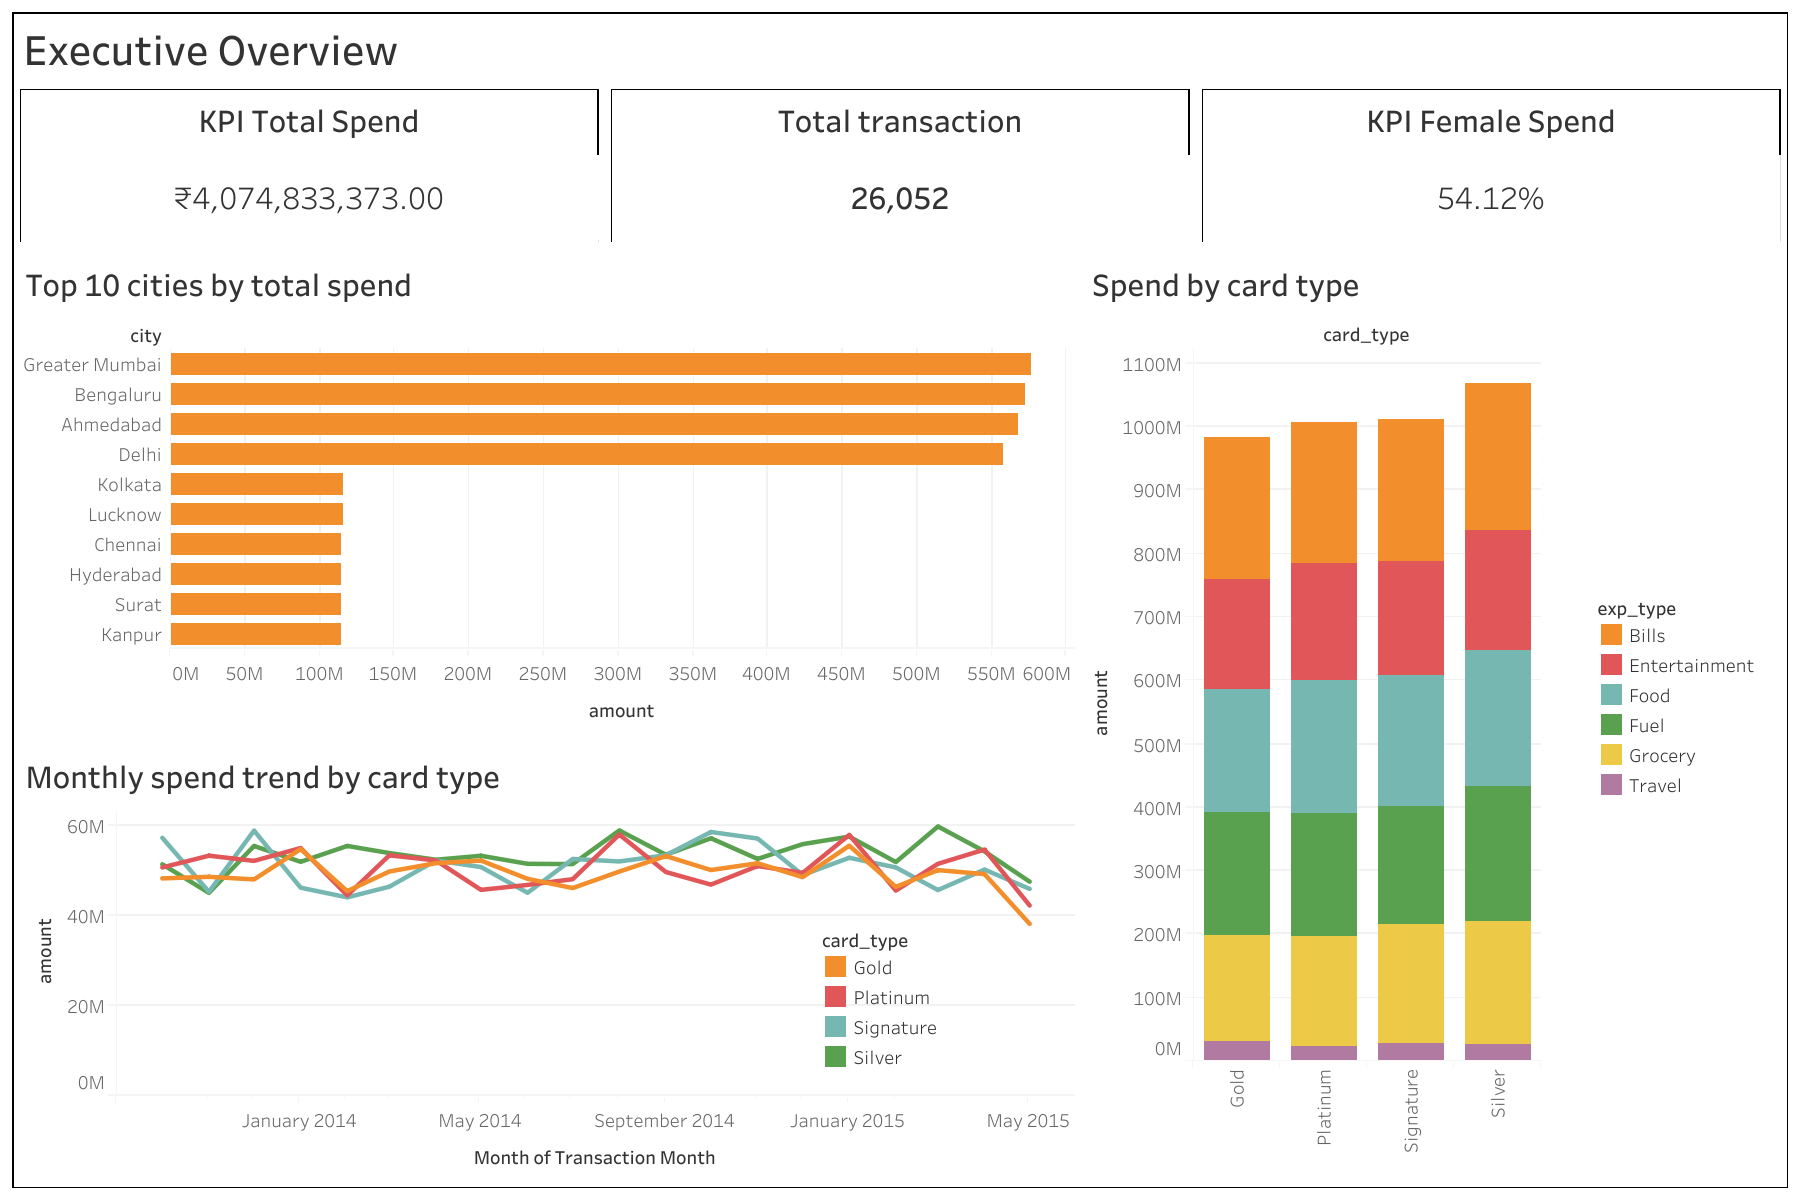

What the dashboard file says about the page in this screenshot:
{"tool":"tableau","page":{"name":"Executive Overview","canvas":[1200,800],"ordinal":3},"visuals":[{"type":"title","box":[9,9,1182,46]},{"type":"worksheet","title":"KPI Total Spend","mark":"Automatic","box":[9,55,394,109.8]},{"type":"worksheet","title":"KPI Total Transactions","mark":"Automatic","box":[403,55,394,109.8]},{"type":"worksheet","title":"KPI Female Spend","mark":"Automatic","box":[797,55,394,109.8]},{"type":"worksheet","title":"Top 10 cities by total spend","mark":"Automatic","rows":["F2"],"cols":["F7"],"box":[9,164.8,711,328]},{"type":"worksheet","title":"Spend by card type","mark":"Automatic","rows":["F7"],"cols":["F4"],"box":[720,164.8,311,626.2]},{"type":"worksheet","title":"Monthly spend trend by card type","mark":"Automatic","rows":["F7"],"cols":["Calculation_0014164677517513"],"box":[9,492.8,711,298.2]},{"type":"legend","title":"Monthly spend trend by card type","param":"[federated.0xsrtrk02xwnnl10lzs8d02qsgfi].[none:F4:nk]","box":[547,615,152,119]}]}

Visuals, with their boxes in screenshot pixels (x1, y1, x2, y2), scaled from the page's 1200x800 canvas onto the 1799x1199 screenshot:
title: Rect(13, 13, 1786, 82)
"KPI Total Spend" worksheet: Rect(13, 82, 604, 247)
"KPI Total Transactions" worksheet: Rect(604, 82, 1195, 247)
"KPI Female Spend" worksheet: Rect(1195, 82, 1786, 247)
"Top 10 cities by total spend" worksheet: Rect(13, 247, 1079, 739)
"Spend by card type" worksheet: Rect(1079, 247, 1546, 1186)
"Monthly spend trend by card type" worksheet: Rect(13, 739, 1079, 1186)
"Monthly spend trend by card type" legend: Rect(820, 922, 1048, 1100)
